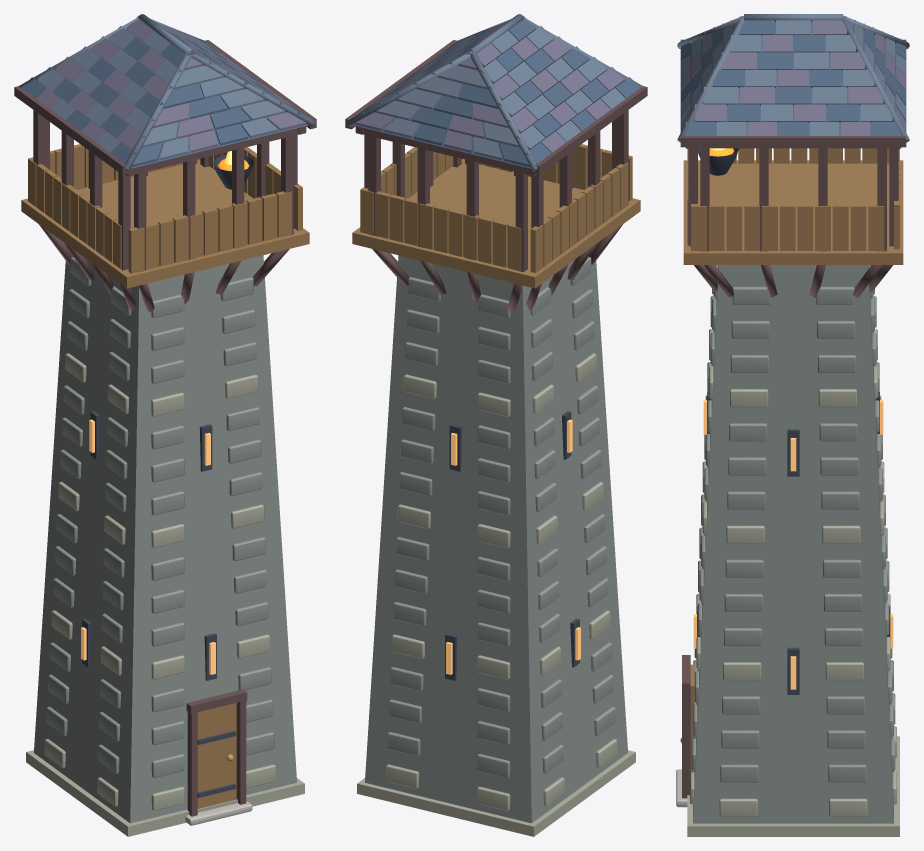
File: watch_tower.glb
3 views of the same model, side by side, from view 1: azimuth 30°, elevation 25°; view 2: azimuth 150°, elevation 25°; view 3: azimuth 270°, elevation 25° (orthographic). The views are drawn at different scales.
Visible parts, largest first — view 1: Watch_tapered_fieldstone_shaft, Watch_hoarding_floor, Watch_tower_oak_door, Watch_stone_foot, Watch_eave_fascia, Watch_lookout_crossbeam, Watch_tower_jamb, Watch_tower_jamb.001, Watch_lookout_post.015, Watch_hip_ridge, Watch_hip_ridge.002, Watch_hipped_roof (+57 smaller); view 2: Watch_tapered_fieldstone_shaft, Watch_hoarding_floor, Watch_stone_foot, Watch_eave_fascia, Watch_lookout_crossbeam.002, Watch_lookout_post.011, Watch_hip_ridge.001, Watch_hip_ridge.003, Watch_hipped_roof, Watch_lookout_post.009, Watch_lookout_post.008, Watch_hoarding_board.028 (+57 smaller); view 3: Watch_tapered_fieldstone_shaft, Watch_hoarding_floor, Watch_stone_foot, Watch_eave_fascia.001, Watch_hipped_roof, Watch_tower_jamb.001, Watch_hoarding_board.013, Watch_hoarding_board.016, Watch_hoarding_board.017, Watch_hoarding_board.019, Watch_hoarding_board.020, Watch_hoarding_board.012 (+81 smaller).
Part boxes in pixels (bbox=[...]): Watch_tapered_fieldstone_shaft: bbox=[34, 247, 296, 823]; Watch_hoarding_floor: bbox=[21, 160, 309, 288]; Watch_tower_oak_door: bbox=[197, 703, 236, 808]; Watch_stone_foot: bbox=[26, 750, 304, 836]; Watch_eave_fascia: bbox=[14, 86, 128, 174]; Watch_lookout_crossbeam: bbox=[125, 126, 306, 176]; Watch_tower_jamb: bbox=[187, 707, 197, 816]; Watch_tower_jamb.001: bbox=[236, 694, 246, 804]; Watch_lookout_post.015: bbox=[118, 172, 130, 270]; Watch_hip_ridge: bbox=[124, 52, 191, 171]; Watch_hip_ridge.002: bbox=[190, 51, 315, 126]; Watch_hipped_roof: bbox=[39, 30, 308, 168]; Watch_tapered_fieldstone_shaft: bbox=[365, 247, 627, 823]; Watch_hoarding_floor: bbox=[352, 159, 640, 288]; Watch_stone_foot: bbox=[357, 750, 635, 836]; Watch_eave_fascia: bbox=[533, 86, 647, 174]; Watch_lookout_crossbeam.002: bbox=[355, 126, 536, 176]; Watch_lookout_post.011: bbox=[515, 172, 527, 272]; Watch_hip_ridge.001: bbox=[470, 52, 537, 171]; Watch_hip_ridge.003: bbox=[346, 51, 471, 126]; Watch_hipped_roof: bbox=[353, 30, 622, 168]; Watch_lookout_post.009: bbox=[417, 148, 429, 248]; Watch_lookout_post.008: bbox=[368, 136, 380, 235]; Watch_hoarding_board.028: bbox=[448, 209, 464, 256]; Watch_tapered_fieldstone_shaft: bbox=[693, 265, 893, 823]; Watch_hoarding_floor: bbox=[683, 160, 903, 264]; Watch_stone_foot: bbox=[687, 736, 899, 836]; Watch_eave_fascia.001: bbox=[680, 135, 906, 147]; Watch_hipped_roof: bbox=[680, 22, 906, 134]; Watch_tower_jamb.001: bbox=[682, 691, 690, 798]; Watch_hoarding_board.013: bbox=[726, 204, 742, 250]; Watch_hoarding_board.016: bbox=[779, 204, 795, 250]; Watch_hoarding_board.017: bbox=[797, 204, 813, 250]; Watch_hoarding_board.019: bbox=[832, 204, 848, 250]; Watch_hoarding_board.020: bbox=[850, 204, 866, 250]; Watch_hoarding_board.012: bbox=[708, 204, 724, 250].
Bounding box in the file's own units: 3.95 × 14.53 × 3.95.
